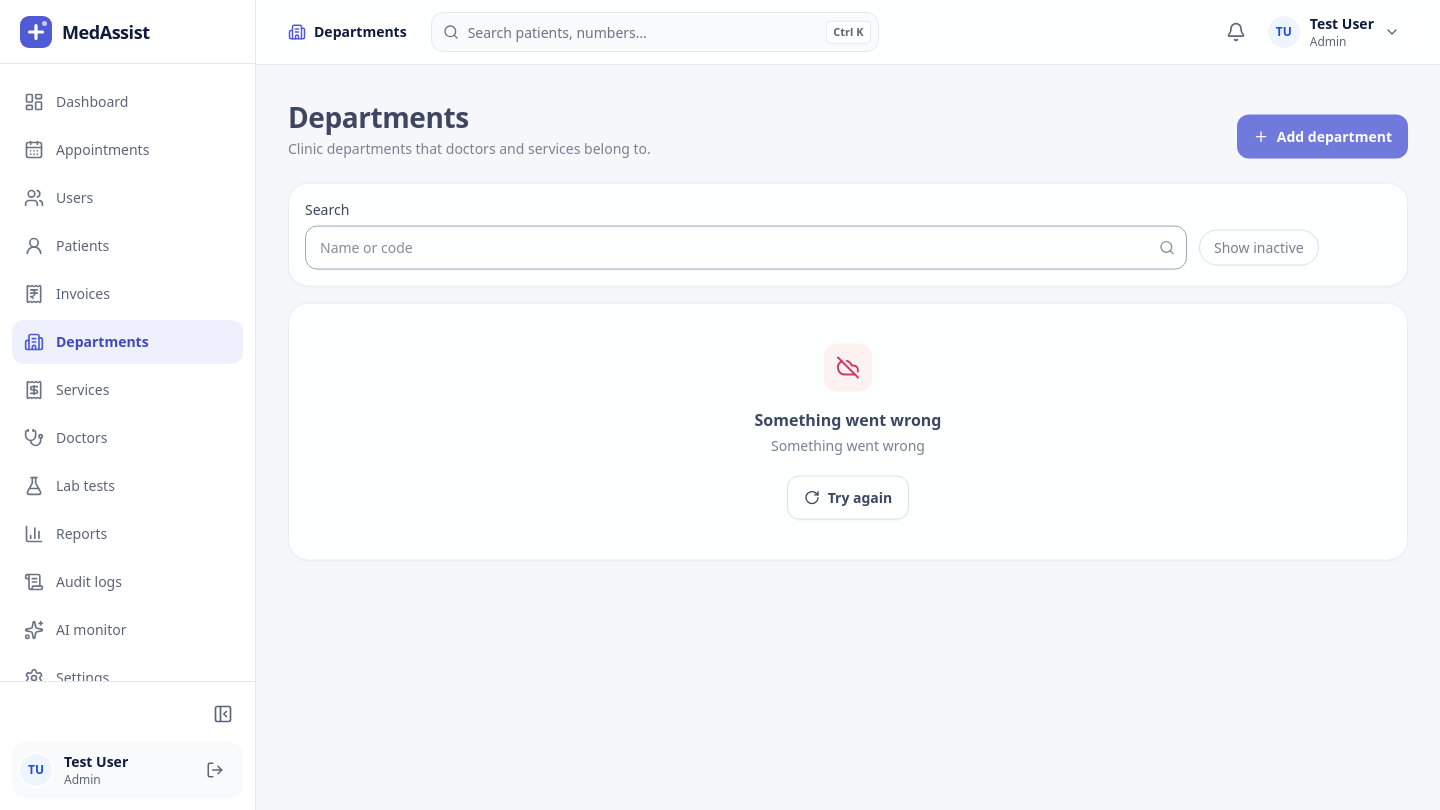
DepartmentsPage › load errors can be retried
The width and height of the screenshot is (1440, 810).
Click the button "Try again" at (848,497), box [787, 475, 909, 519]
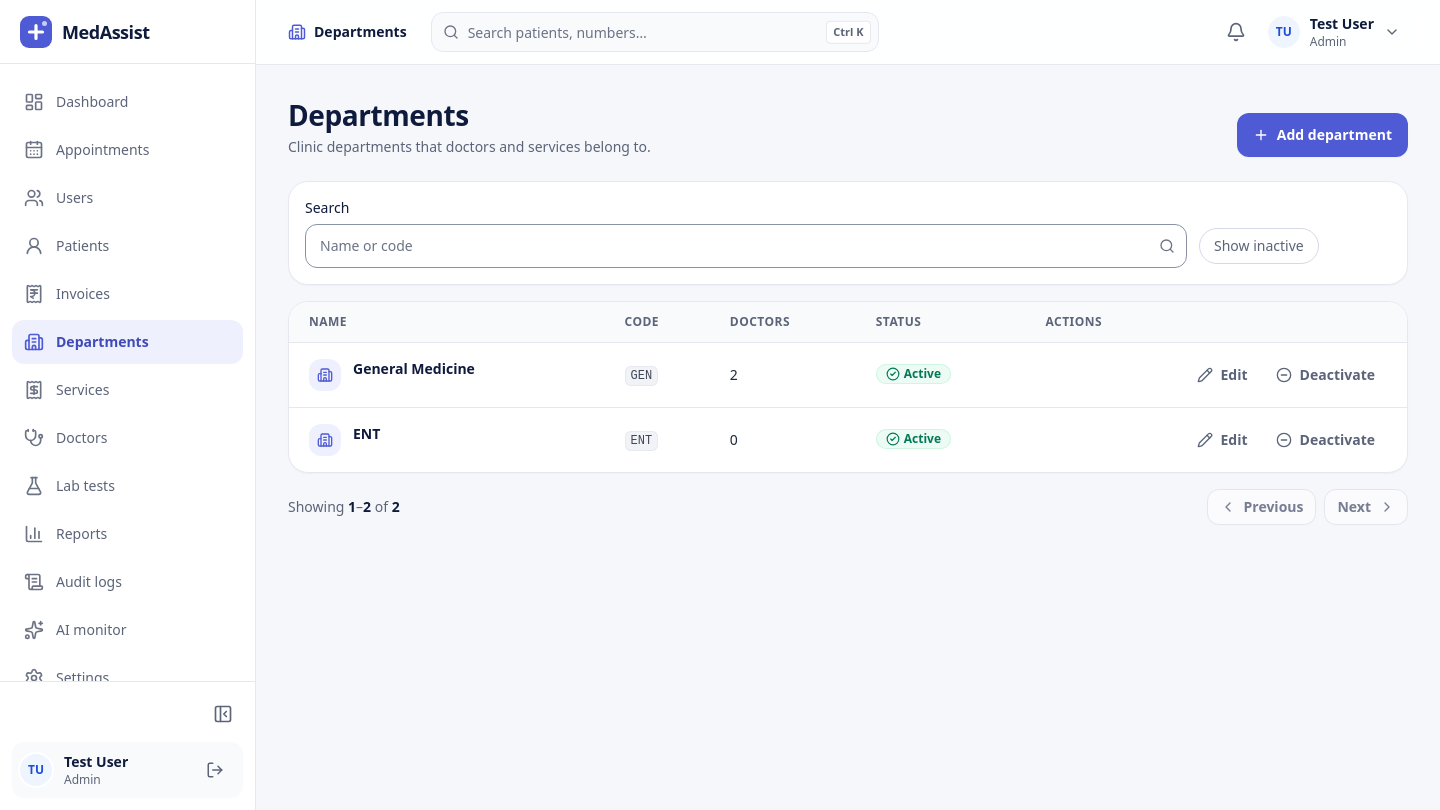
Check: the table named "Departments" is shown, box [289, 302, 1407, 472]
